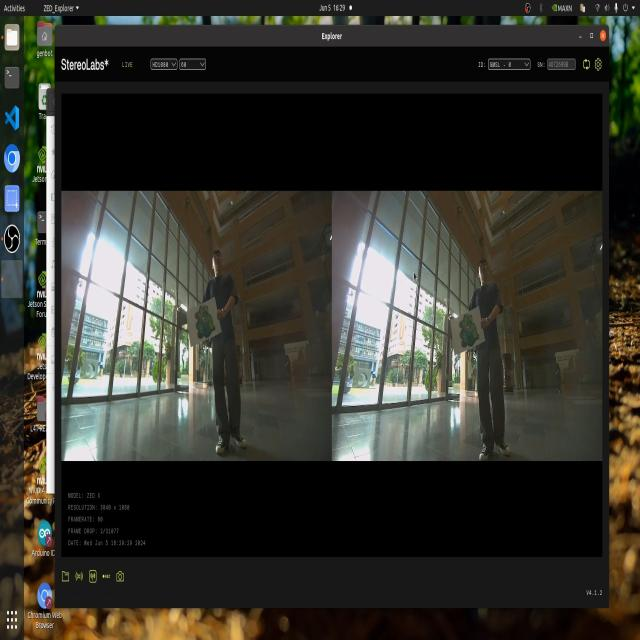green: (184, 301, 223, 344), (452, 300, 485, 350)
